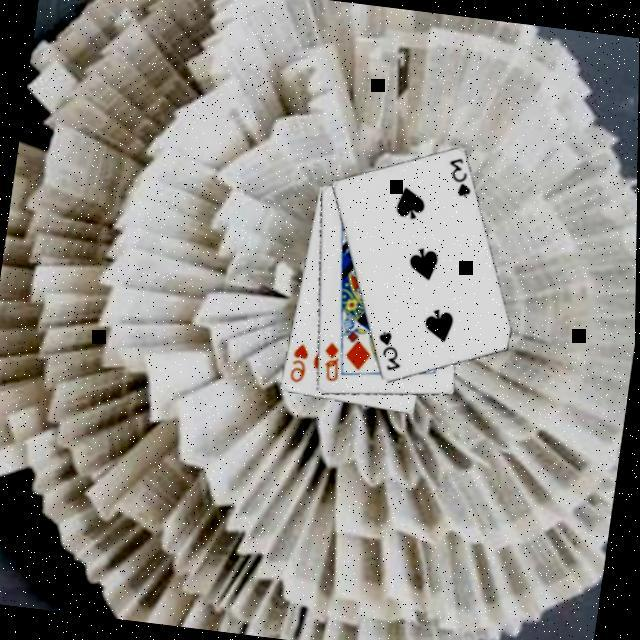3S: (370, 328, 406, 375), (440, 154, 476, 201)
9H: (284, 340, 311, 386)
QD: (316, 339, 345, 386)
